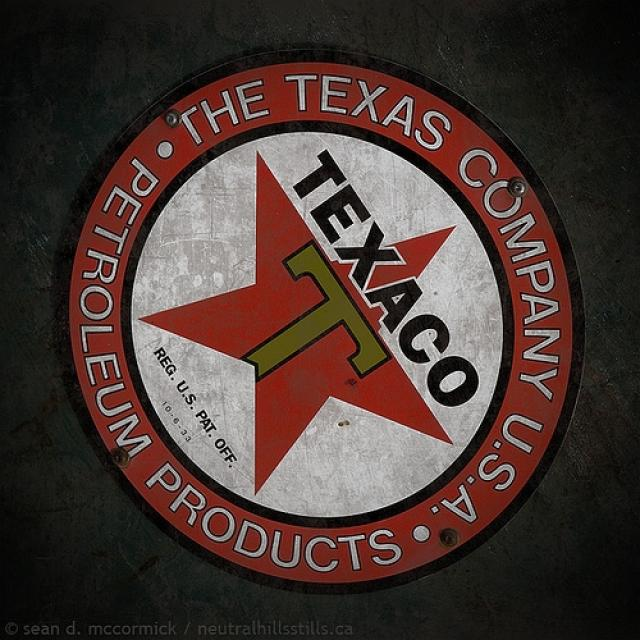texaco: (123, 127, 507, 520)
